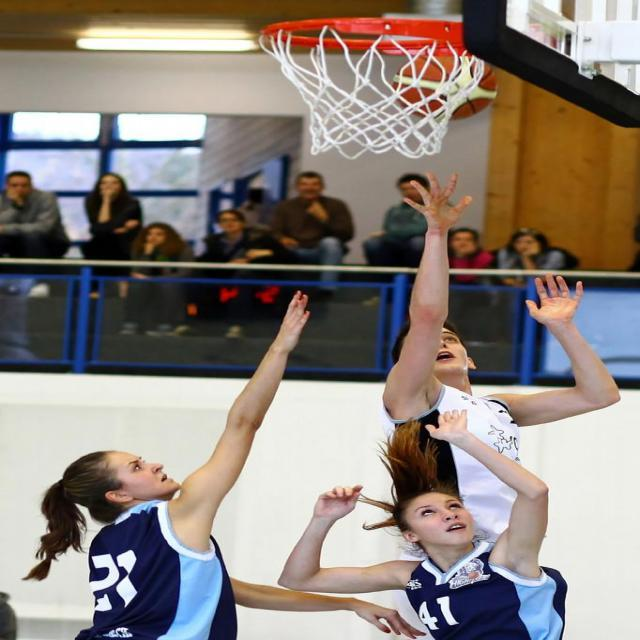rim: (393, 49, 493, 121)
